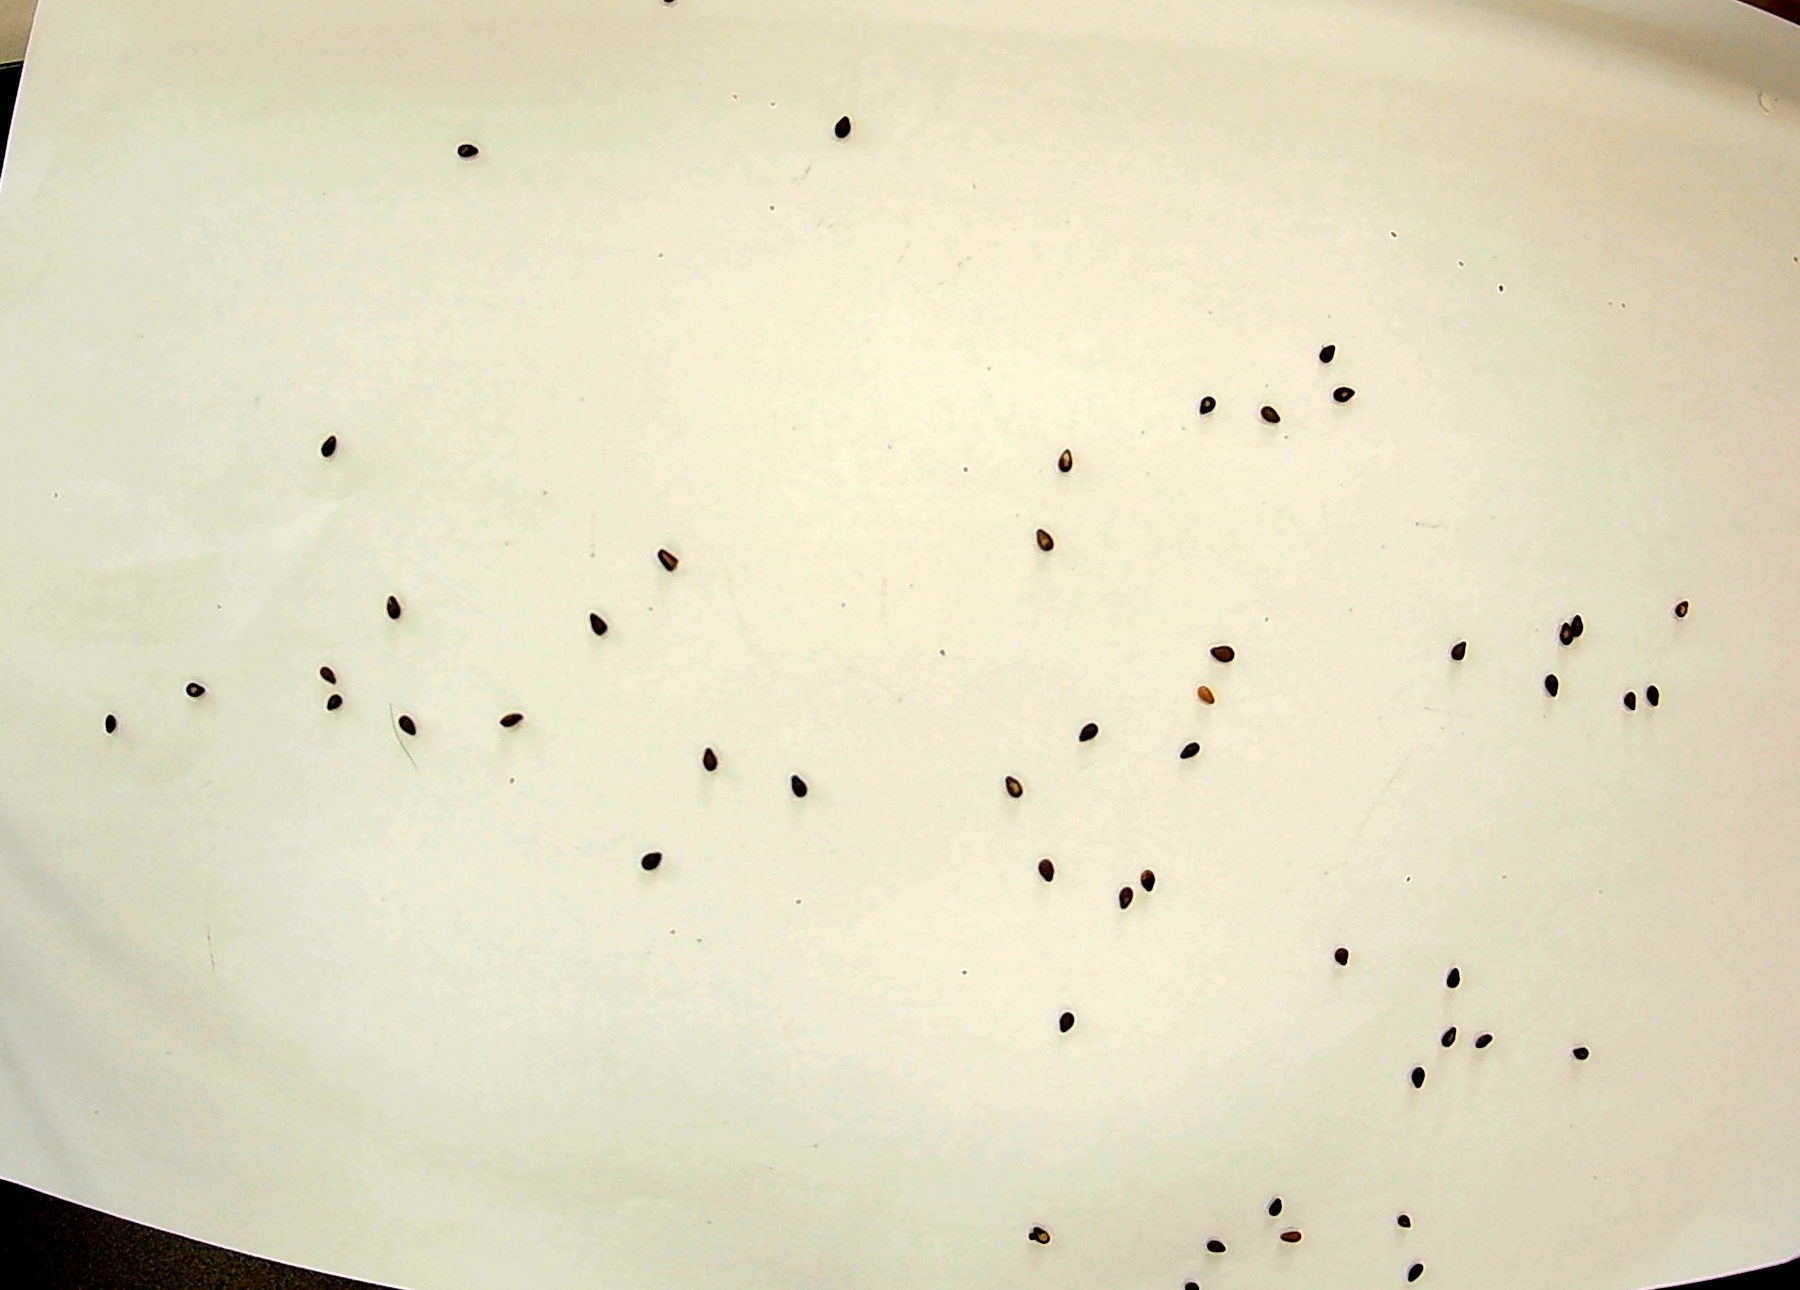sesami: (1010, 519, 1072, 558), (1187, 635, 1250, 672), (774, 758, 816, 813), (177, 674, 232, 711), (1314, 941, 1369, 977), (1047, 447, 1093, 489), (1101, 870, 1143, 914), (1161, 734, 1215, 768), (816, 112, 864, 149), (1065, 712, 1111, 747), (1400, 1065, 1446, 1099), (1669, 592, 1711, 628), (1192, 1230, 1238, 1262), (695, 741, 735, 778), (1127, 859, 1172, 891), (585, 600, 614, 649), (1324, 377, 1360, 416), (1381, 1206, 1418, 1245), (392, 708, 433, 743), (1273, 1226, 1307, 1266), (1185, 390, 1242, 413), (1260, 1196, 1296, 1233), (486, 706, 532, 734), (1630, 681, 1666, 716), (1027, 854, 1066, 887), (95, 706, 130, 741), (1446, 965, 1473, 1008), (1003, 765, 1034, 804), (1312, 335, 1342, 373), (1441, 639, 1487, 665), (1023, 1208, 1049, 1245), (1261, 401, 1293, 431), (1193, 674, 1222, 708), (631, 850, 666, 878), (1425, 1028, 1460, 1055), (1616, 681, 1640, 722), (307, 429, 338, 459), (1568, 1023, 1589, 1067), (453, 140, 483, 170), (1407, 1254, 1430, 1290), (327, 692, 353, 725), (1538, 672, 1573, 695), (1051, 1007, 1080, 1033), (301, 660, 338, 681), (378, 589, 400, 623), (657, 544, 680, 572), (1478, 1035, 1496, 1058)
